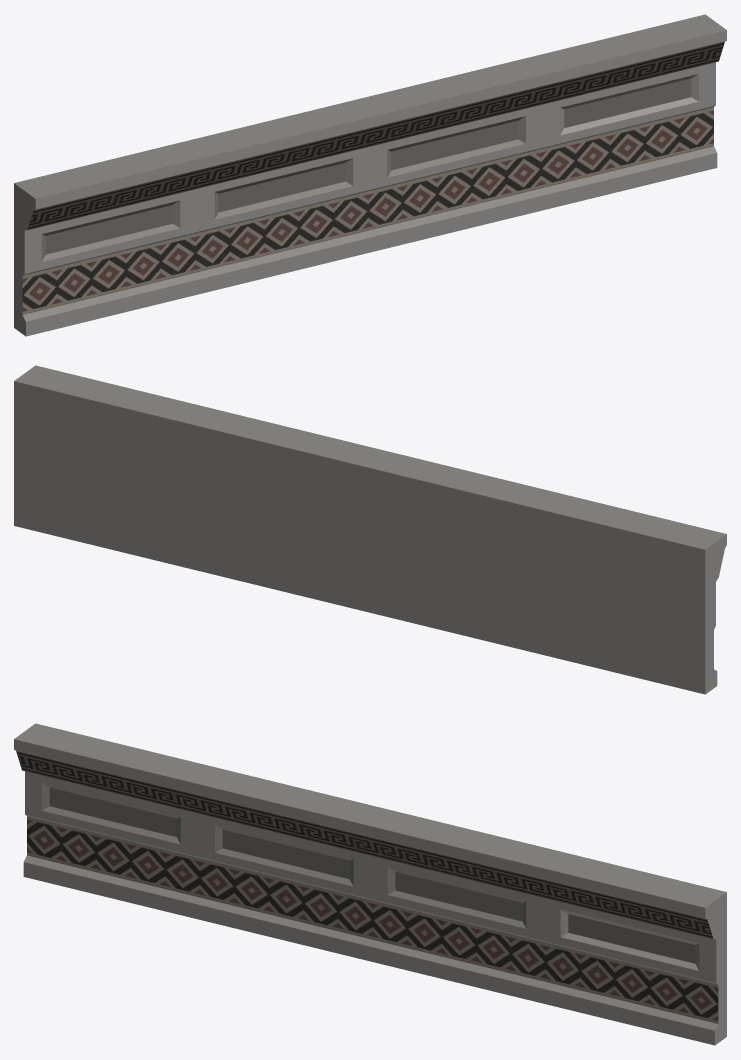
The model's file is ancient_SM_Bld_Trim_05.gltf.
3 renders of one model, top to bottom at view 1: azimuth 30°, elevation 25°; view 2: azimuth 150°, elevation 25°; view 3: azimuth 330°, elevation 25°, orthographic.
Parts seen in each view (by area): view 1: SM_Bld_Trim_05; view 2: SM_Bld_Trim_05; view 3: SM_Bld_Trim_05.
Part boxes in pixels (left/top/right/bottom): SM_Bld_Trim_05: left=14, top=14, right=726, bottom=336; SM_Bld_Trim_05: left=14, top=365, right=726, bottom=694; SM_Bld_Trim_05: left=14, top=723, right=726, bottom=1045.
Bounding box in the file's own units: 2.5 × 0.5001 × 0.135.
Materials: 1 (1 with a texture image).
